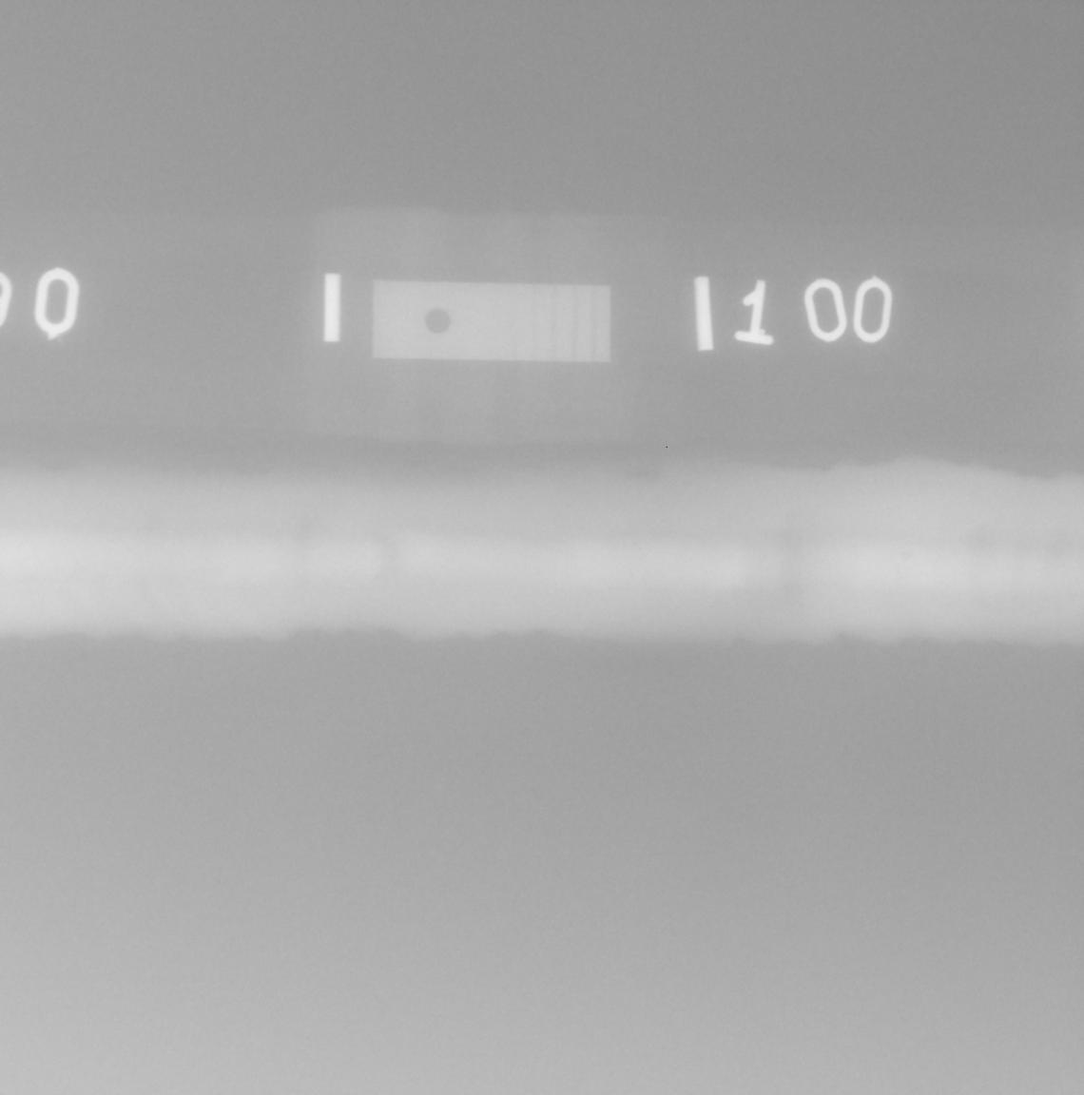Inclusion: (628, 471, 661, 479)
Pore/Porosity: (900, 551, 911, 562)
Reference Standard 1: (372, 281, 610, 362)
